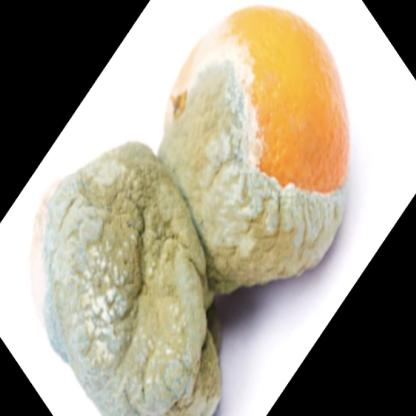rotten: (38, 6, 349, 416)
